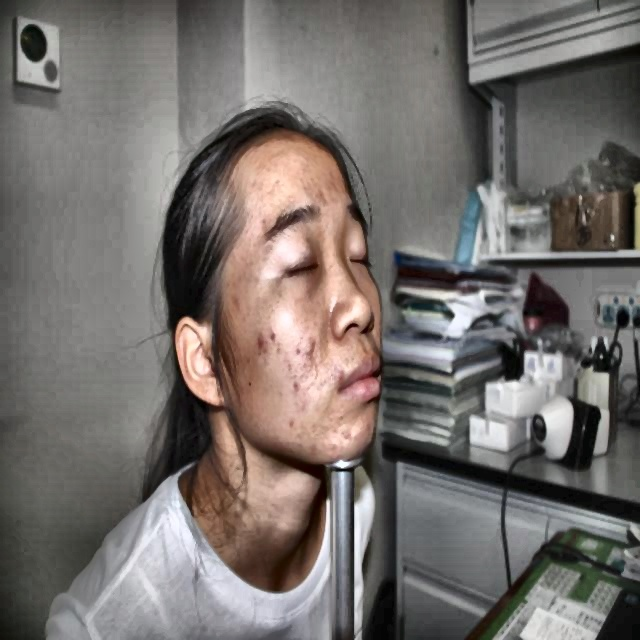pustule: (336, 421, 353, 445), (305, 332, 319, 361), (358, 416, 374, 436), (324, 434, 338, 455), (293, 336, 303, 364), (290, 376, 303, 396), (268, 325, 279, 348), (229, 291, 241, 311), (255, 332, 267, 352), (288, 414, 296, 438)
